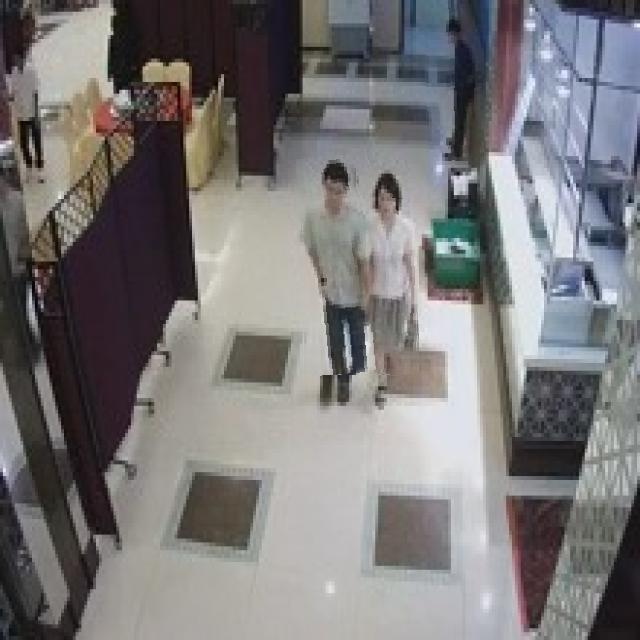Normal: (301, 155, 369, 375), (362, 164, 419, 376), (425, 9, 484, 166)
